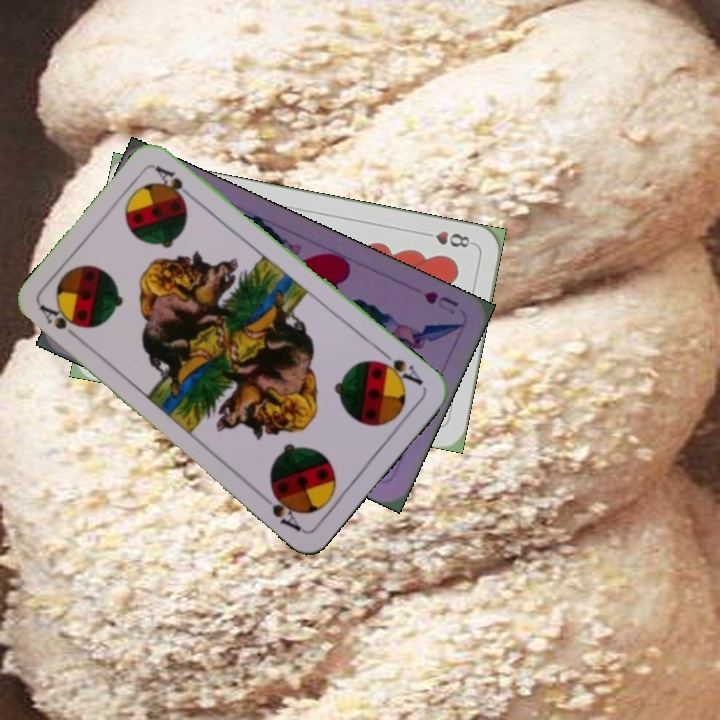H8: (418, 227, 477, 251)
HU: (419, 287, 461, 317)
SA: (371, 346, 426, 388), (36, 300, 85, 345)
